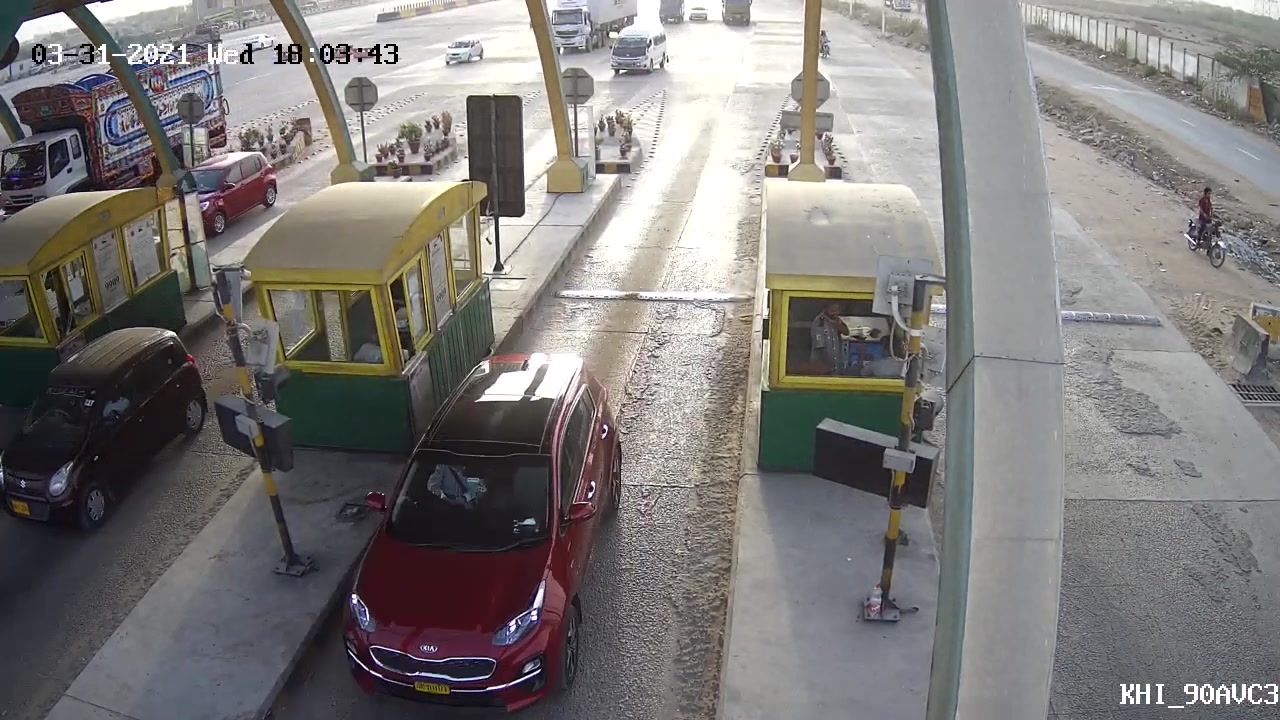F1: (330, 342, 642, 717)
